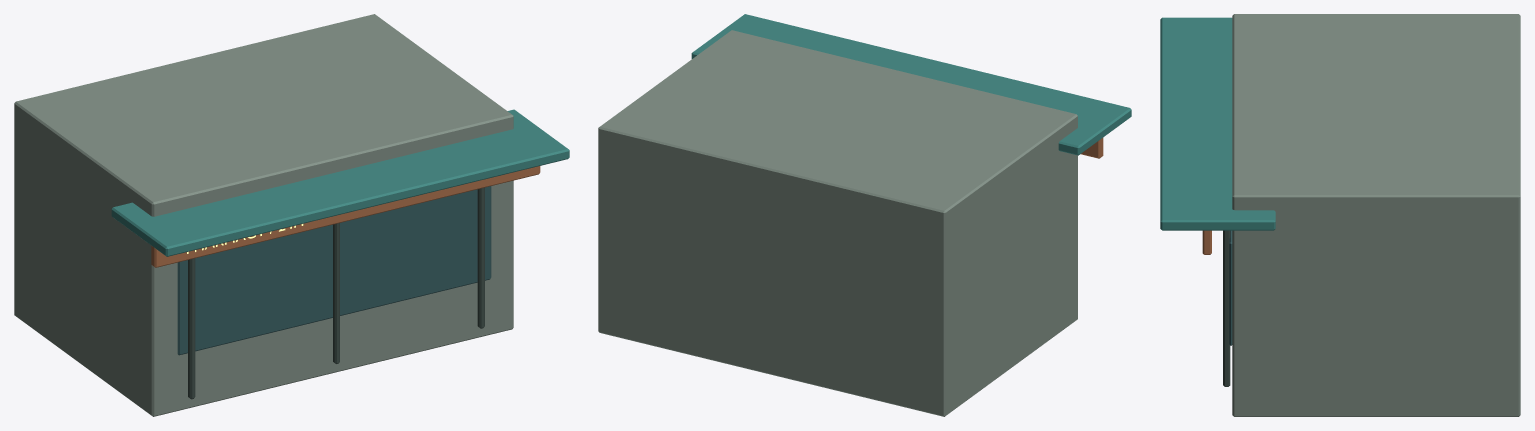
File: pharmacy_front.glb
3 renders of one model, left to right at view 1: azimuth 30°, elevation 25°; view 2: azimuth 150°, elevation 25°; view 3: azimuth 270°, elevation 25°, orthographic. The views are drawn at different scales.
Parts seen in each view (by area): view 1: pharmacy_front.001; view 2: pharmacy_front.001; view 3: pharmacy_front.001.
Part boxes in pixels (<box>): pharmacy_front.001: <box>14,14,569,416</box>; pharmacy_front.001: <box>598,14,1131,416</box>; pharmacy_front.001: <box>1160,14,1520,416</box>.
Size of the model in its own units: 6.7 by 3.4 by 5.
